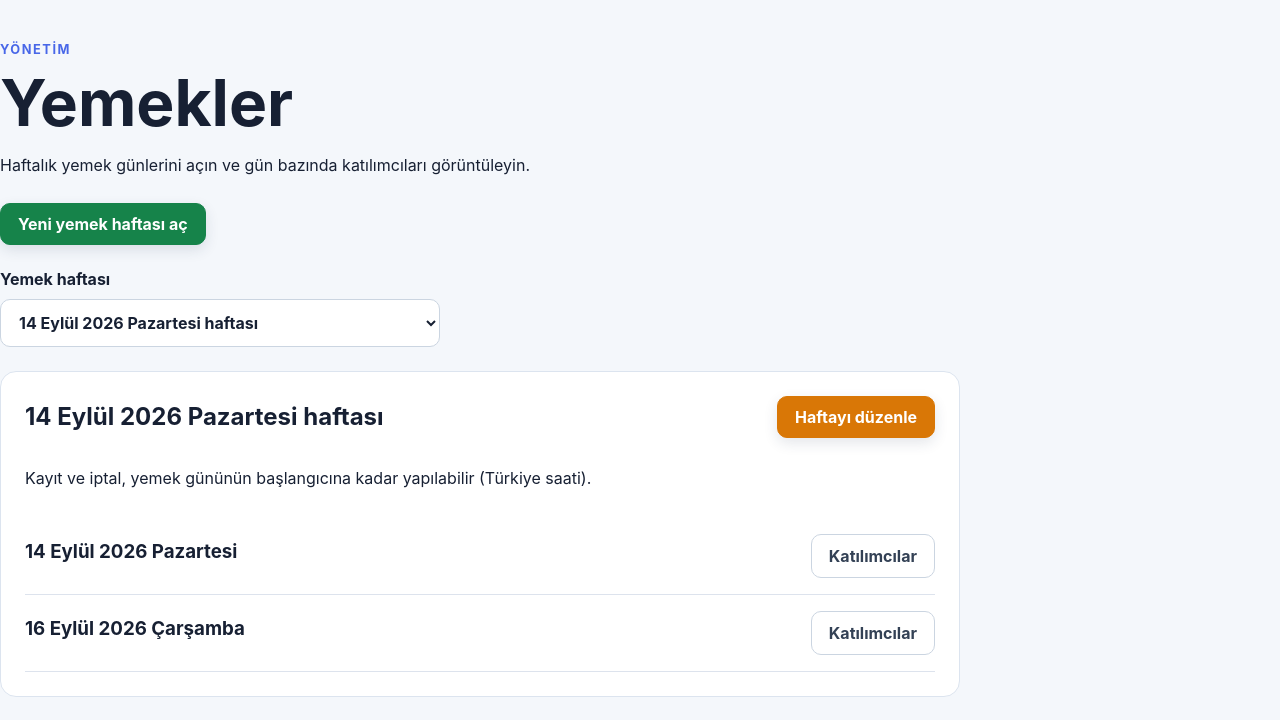
it: meal and event participation › edits meal days in a popup and sends the schedule version
Click the button "Haftayı düzenle": (856,417) [777, 396, 935, 438]
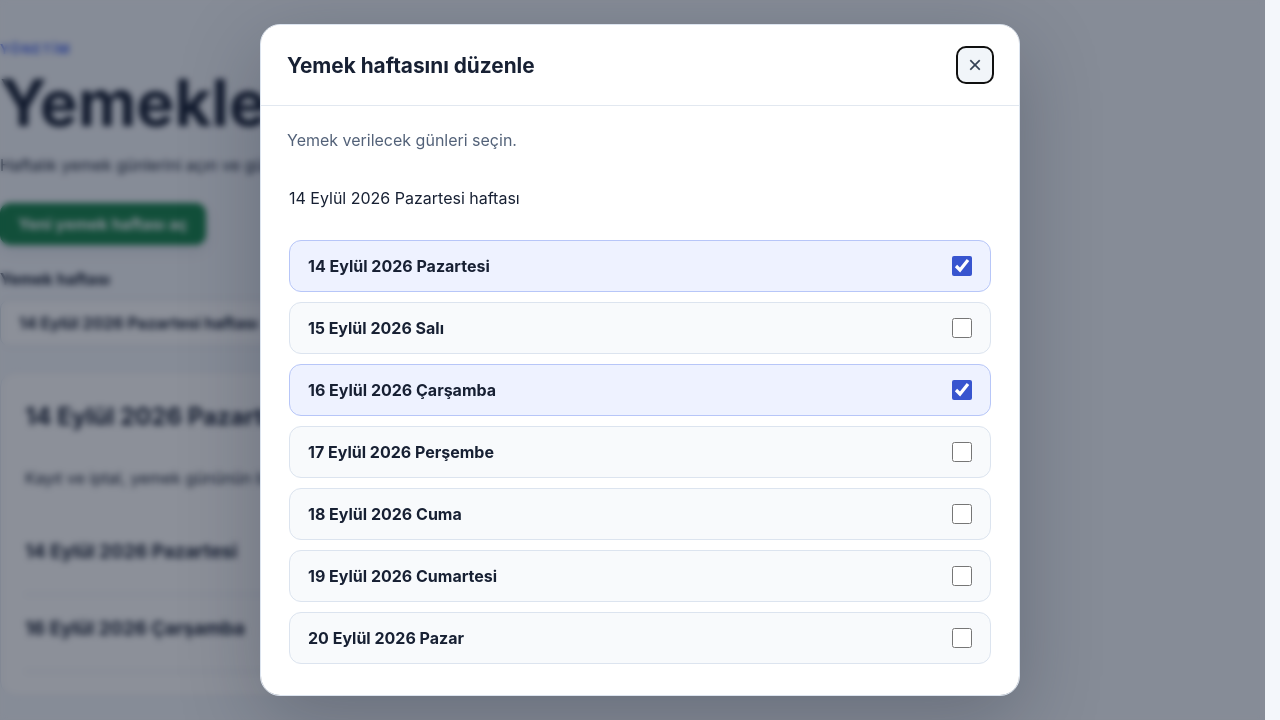
Click the 2nd checkbox: (962,328) [952, 318, 972, 338]
(page scrolled)
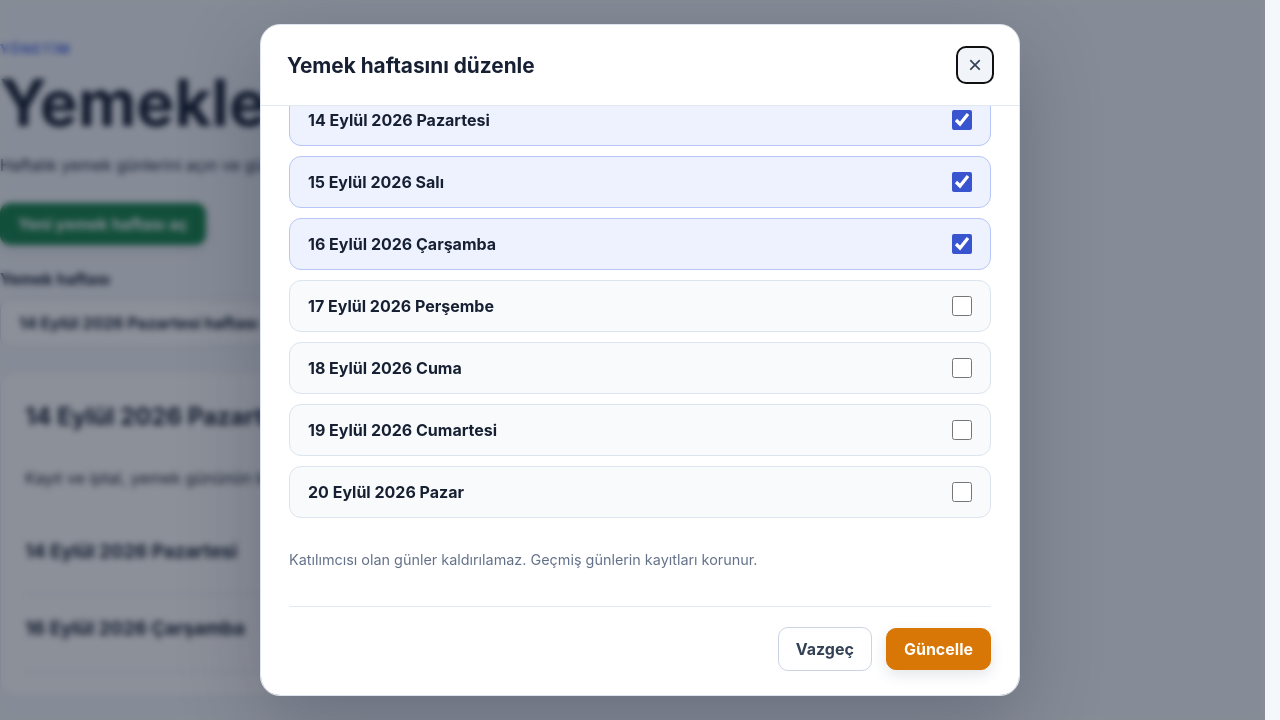
Click the button "Güncelle": (938,649) [886, 628, 991, 670]
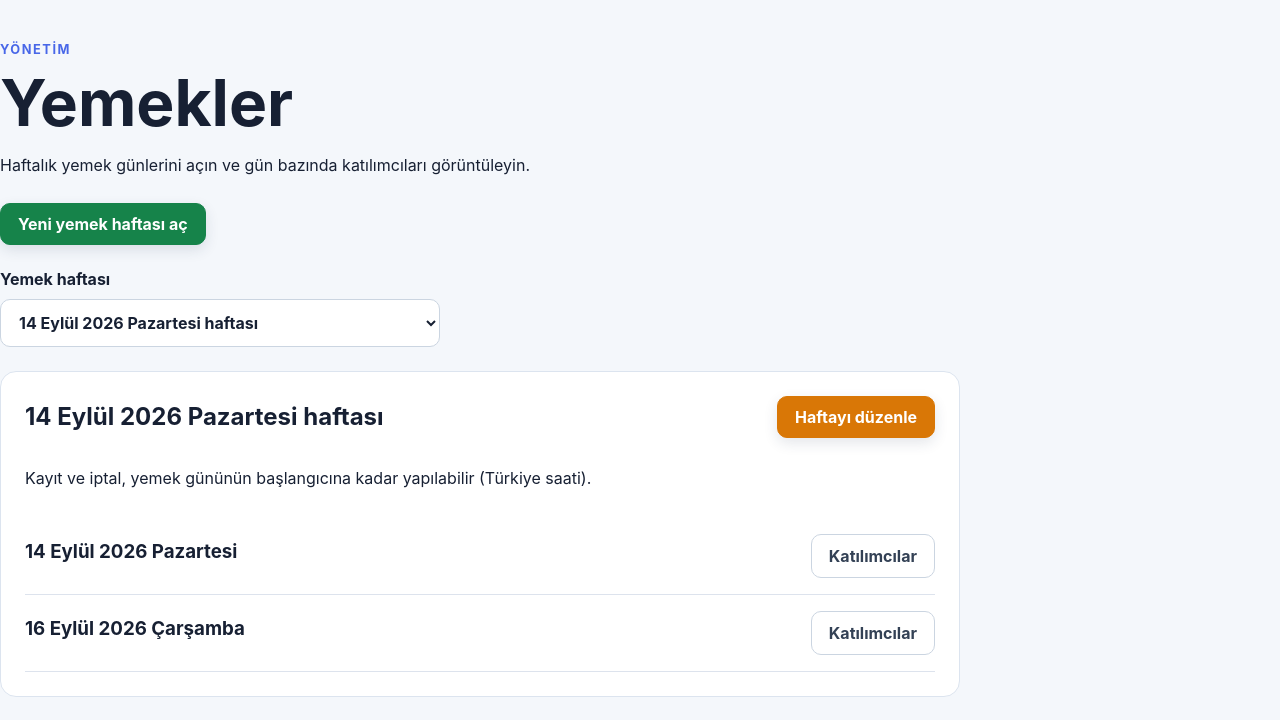
Check: the dialog is gone
